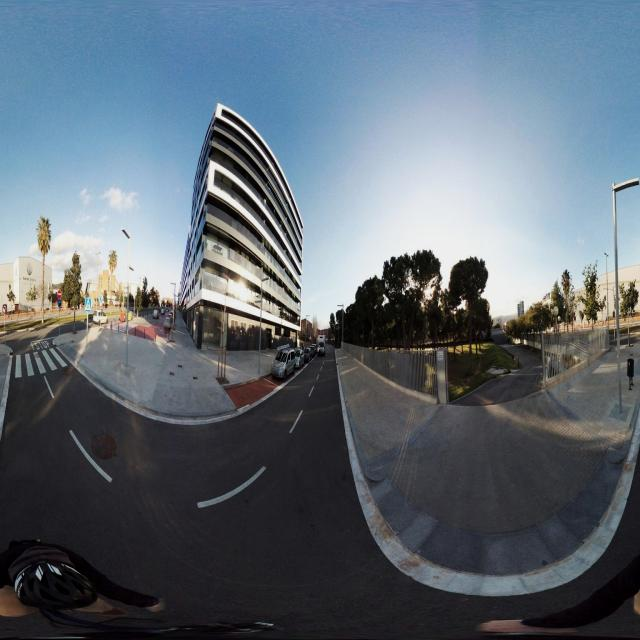car: (272, 350, 293, 380), (292, 348, 304, 368), (302, 346, 311, 363), (317, 340, 325, 357)
